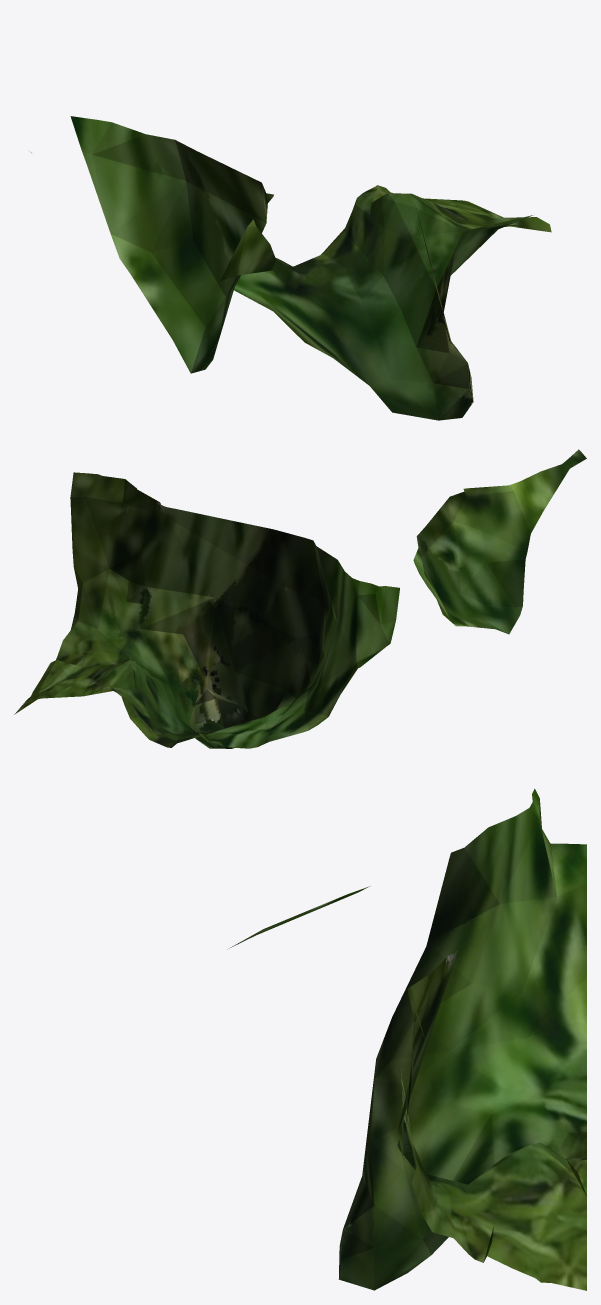
3 views of the same model, one above another, from view 1: azimuth 30°, elevation 25°; view 2: azimuth 150°, elevation 25°; view 3: azimuth 270°, elevation 25° (orthographic). The views are drawn at different scales.
Bounding box in the file's own units: 0.8374 × 0.5713 × 0.8373.
Materials: 3 (3 with a texture image).
